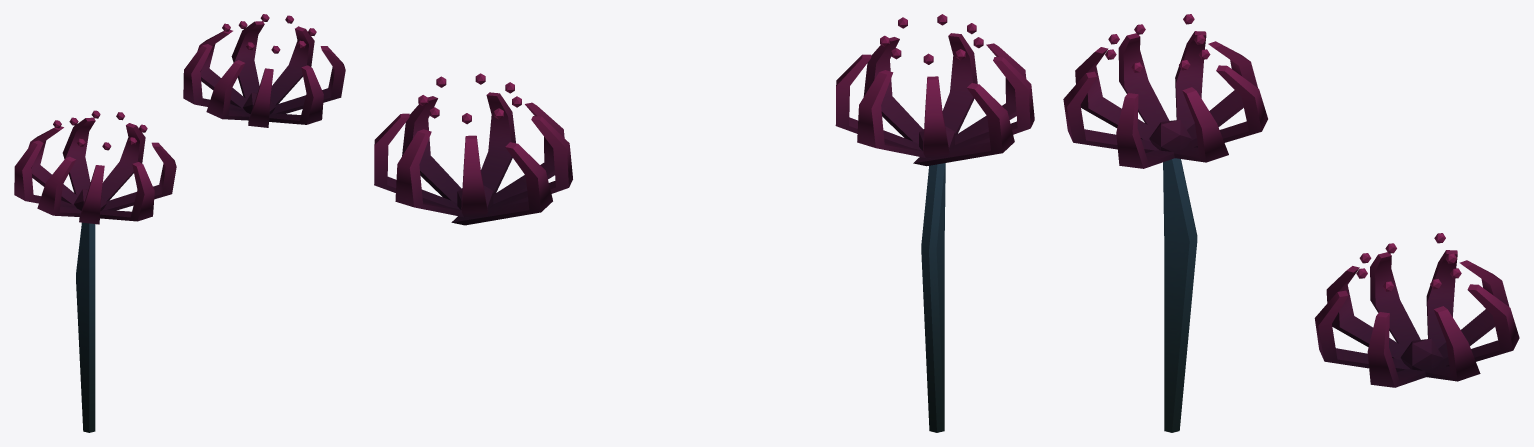
The model's file is FloresAeB cemiterio.fbx.
3 renders of one model, left to right at view 1: azimuth 30°, elevation 25°; view 2: azimuth 150°, elevation 25°; view 3: azimuth 270°, elevation 25°, orthographic. The views are drawn at different scales.
Parts seen in each view (by area): view 1: pPlatonic19, pPlatonic29; view 2: pPlatonic19, pPlatonic29; view 3: pPlatonic19, pPlatonic29.
Part boxes in pixels (bbox=[...]): pPlatonic19: bbox=[14, 110, 176, 432]; pPlatonic29: bbox=[183, 14, 345, 127]; pPlatonic19: bbox=[835, 14, 1034, 432]; pPlatonic29: bbox=[374, 73, 572, 225]; pPlatonic19: bbox=[1063, 14, 1267, 432]; pPlatonic29: bbox=[1314, 233, 1519, 387].
Bounding box in the file's own units: 3.46 × 2.56 × 2.66.
